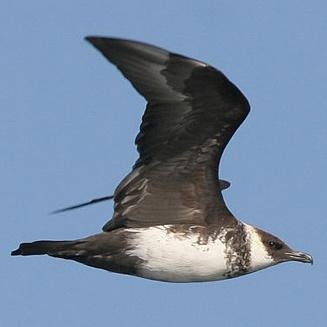bird: (12, 34, 316, 287)
